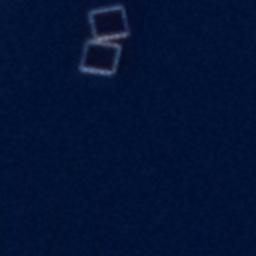square_solid: (87, 3, 131, 44), (78, 40, 121, 76)
